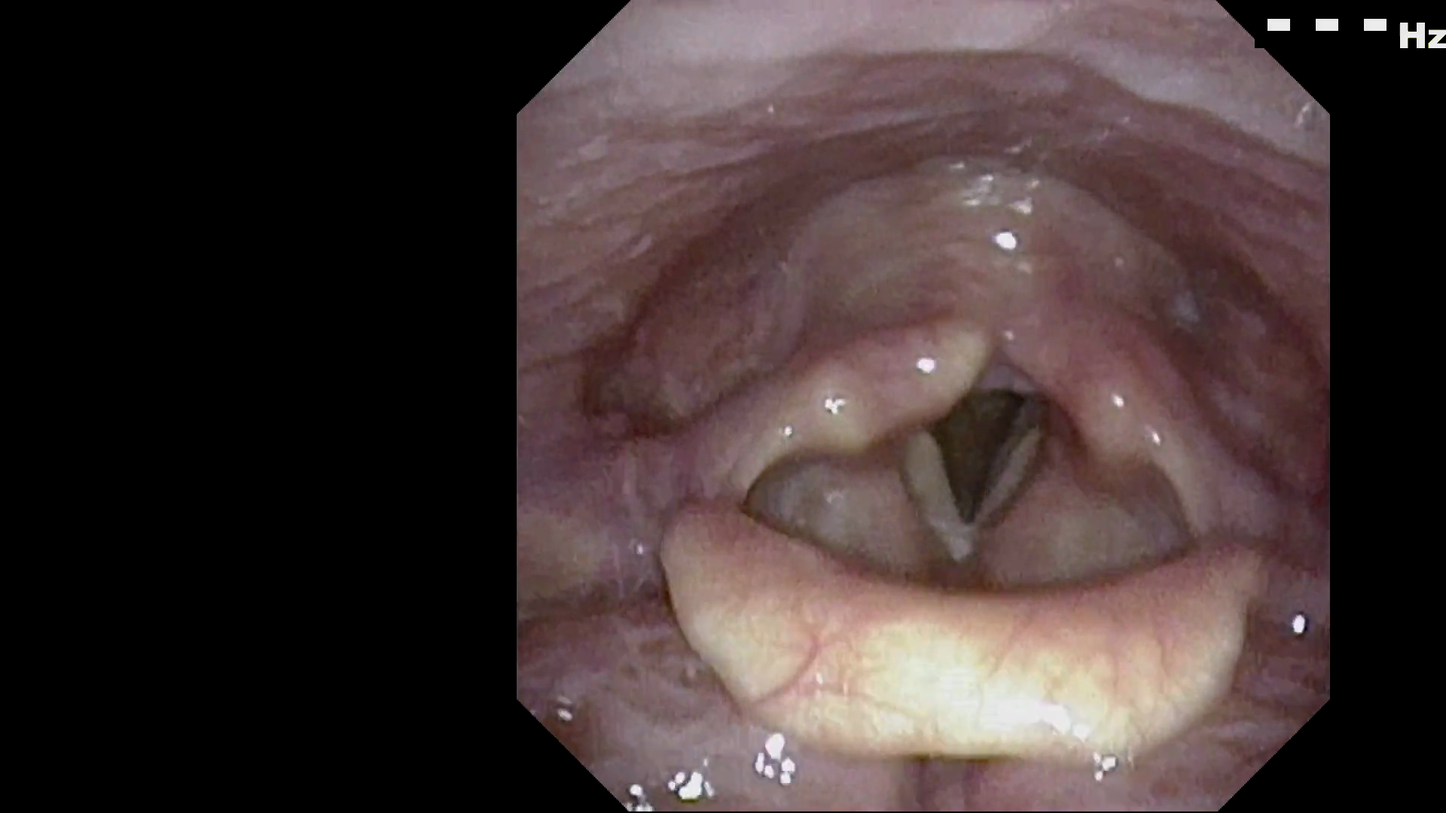epiglottis: (675, 503, 1261, 748)
trachea: (897, 367, 1063, 539)
